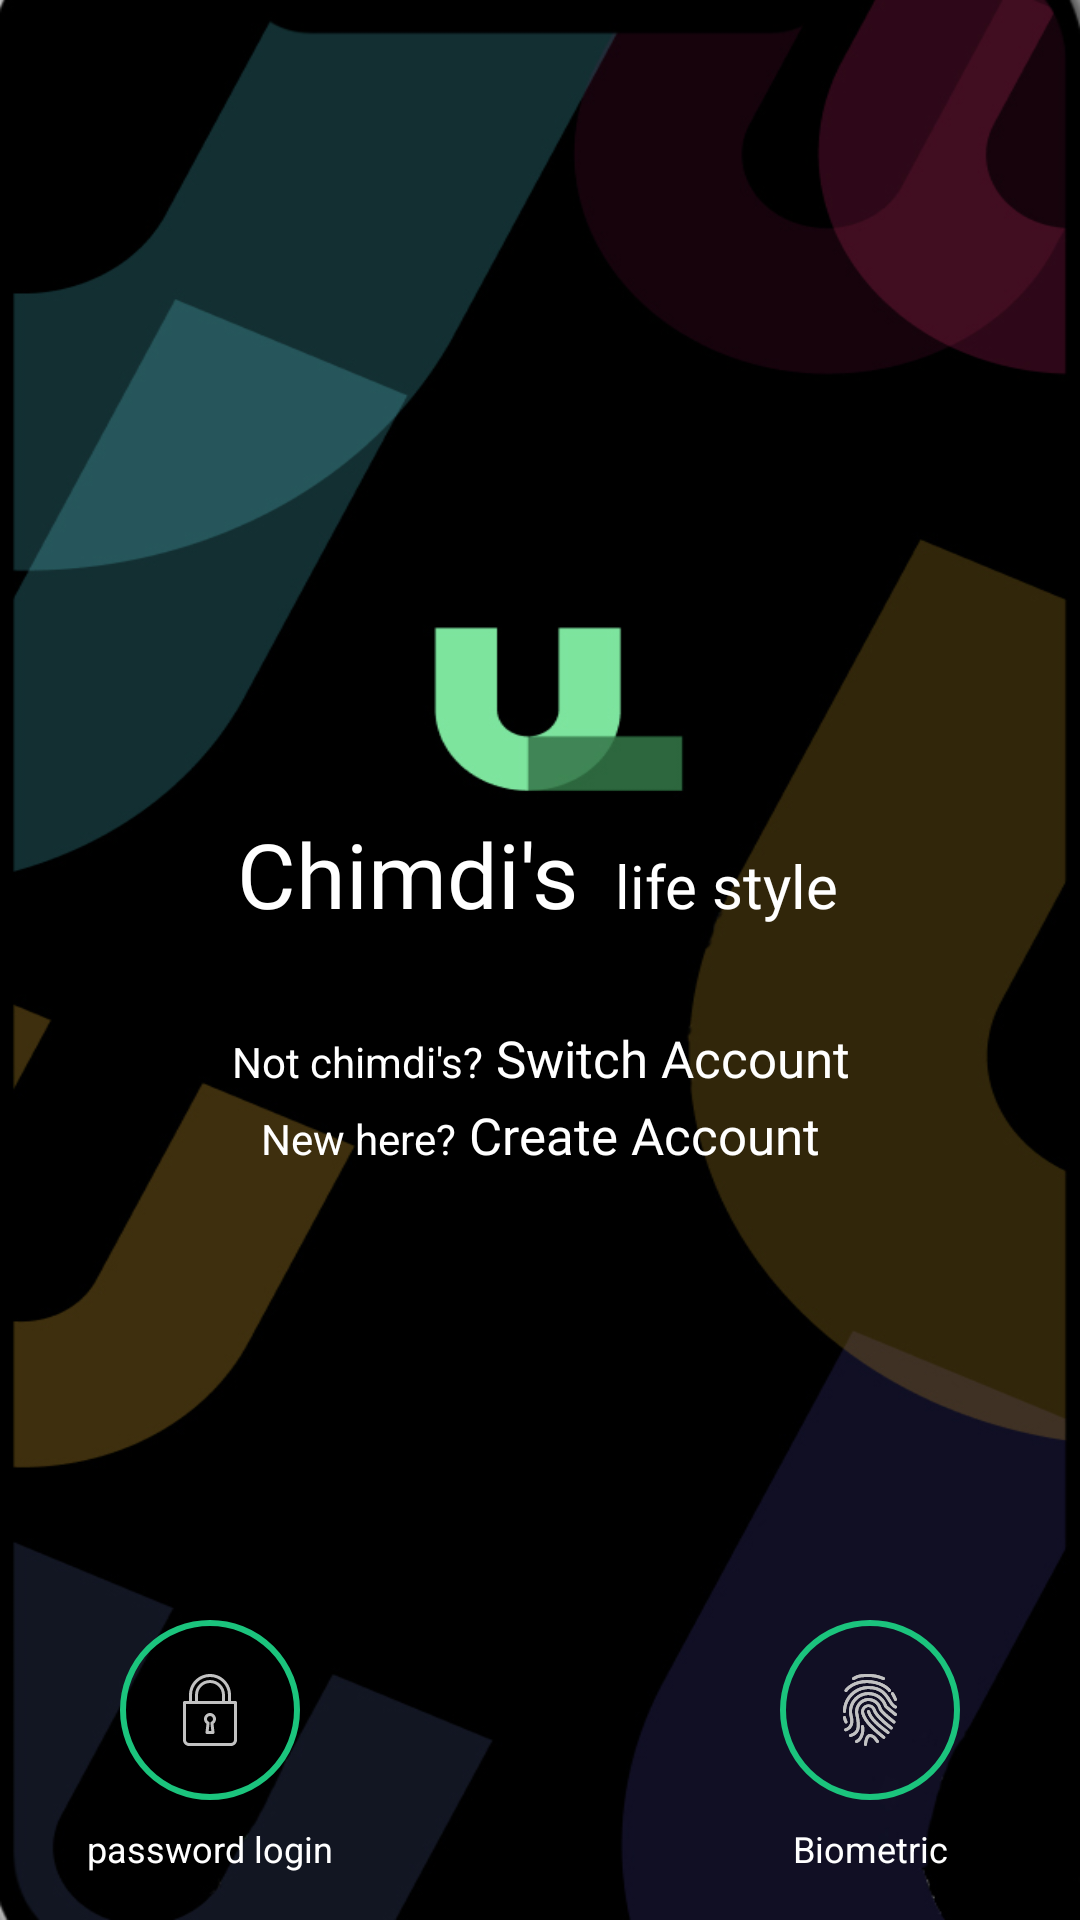

Named icons in this screenshot (1080 x 1920) and their bounding boxes, (x1, y1, x2, y2):
fingerprint: (780, 1620, 960, 1800)
lock: (120, 1620, 300, 1800)
